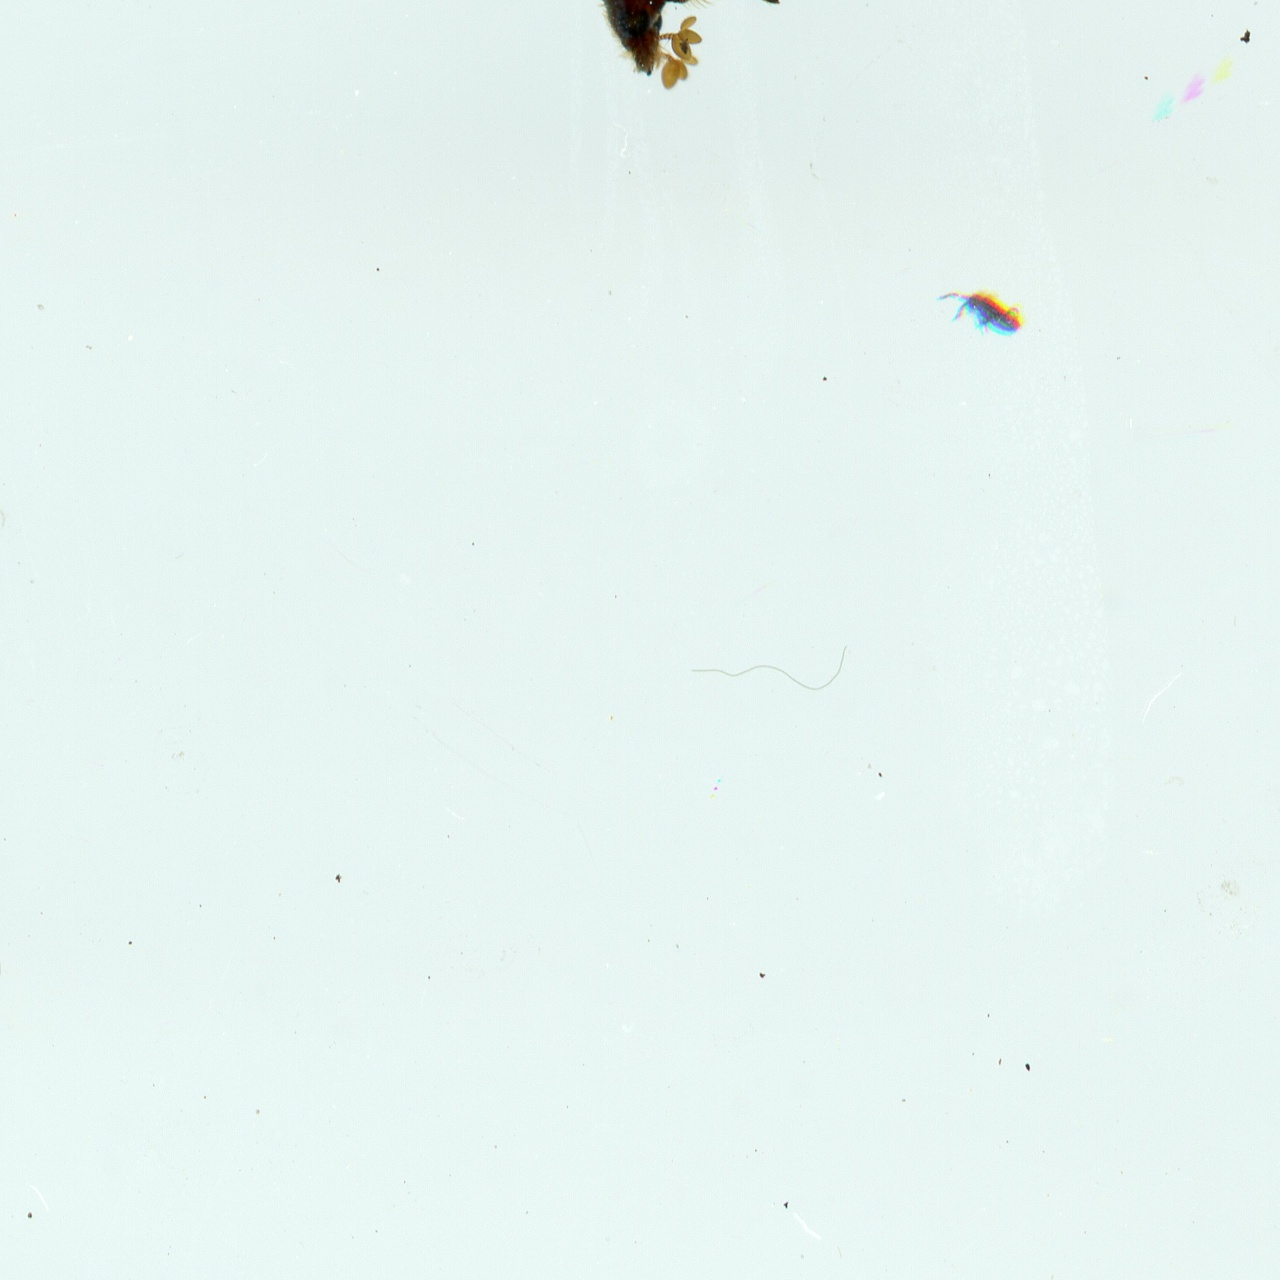arthropod: (599, 0, 988, 125), (934, 283, 1043, 340)
